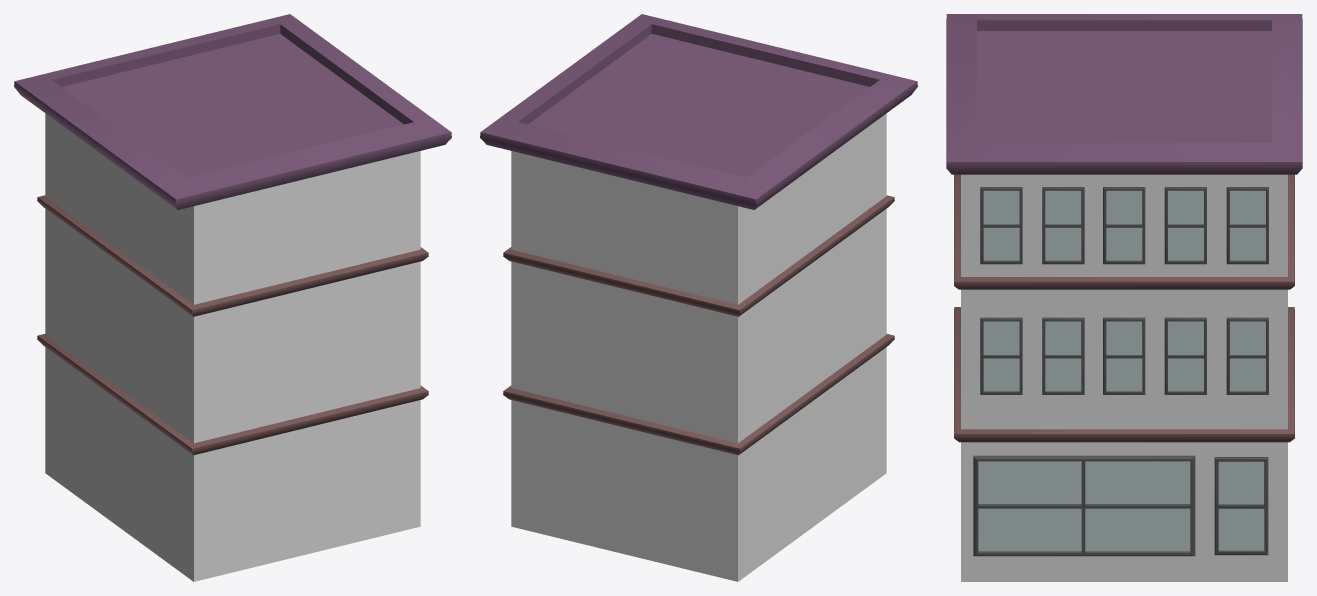
Rendered from Building_2.fbx.
The picture shows the model from 3 angles, left to right: view 1: azimuth 30°, elevation 25°; view 2: azimuth 150°, elevation 25°; view 3: azimuth 270°, elevation 25°; orthographic projection. The views are drawn at different scales.
Parts seen in each view (by area): view 1: Building_Type_Base, Top_Type_4, Molding_Type_2, Molding_Type_4; view 2: Building_Type_Base, Top_Type_4, Molding_Type_2, Molding_Type_4; view 3: Building_Type_Base, Top_Type_4, Window_Type_6, Molding_Type_4, Molding_Type_2, Window_11, Window_1, Window_2, Window_6, Window_7, Window_3, Window_4 (+4 smaller).
Boxes of the visible parts, x1,y1,x2,y2 form: Building_Type_Base: (45,113,420,581); Top_Type_4: (14,14,451,209); Molding_Type_2: (37,195,428,316); Molding_Type_4: (37,334,428,455); Building_Type_Base: (511,113,886,581); Top_Type_4: (480,14,917,209); Molding_Type_2: (503,195,894,316); Molding_Type_4: (503,334,894,455); Building_Type_Base: (961,174,1287,581); Top_Type_4: (946,14,1302,174); Window_Type_6: (973,455,1195,556); Molding_Type_4: (954,307,1294,442); Molding_Type_2: (954,174,1294,289); Window_11: (1214,457,1268,555); Window_1: (980,187,1022,264); Window_2: (1042,187,1084,264); Window_6: (980,317,1022,394); Window_7: (1042,317,1084,394); Window_3: (1103,187,1145,264); Window_4: (1164,187,1206,264).
Bounding box in the file's own units: 21.32 × 29.44 × 21.63.
